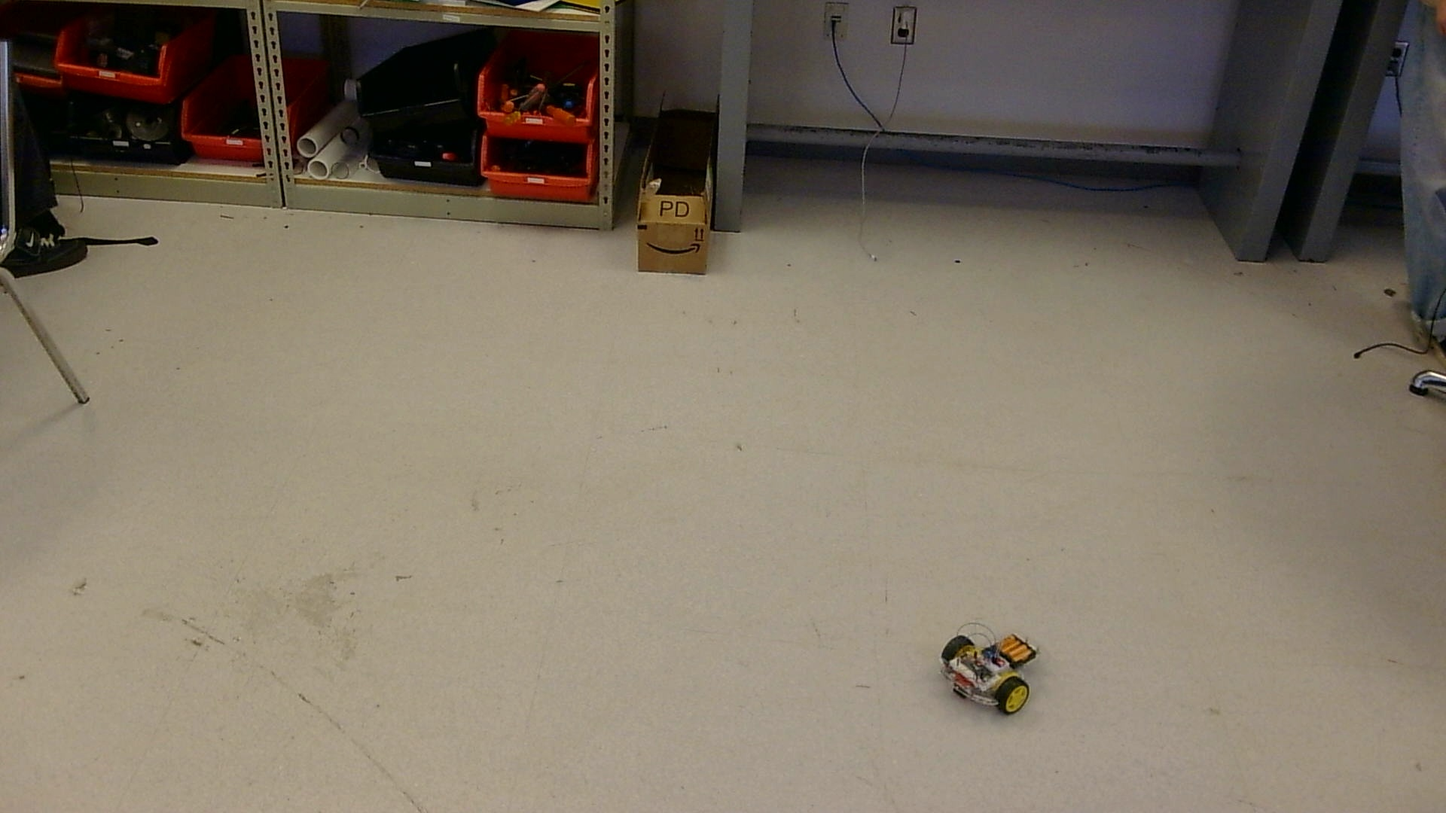robot: (941, 624, 1037, 714)
